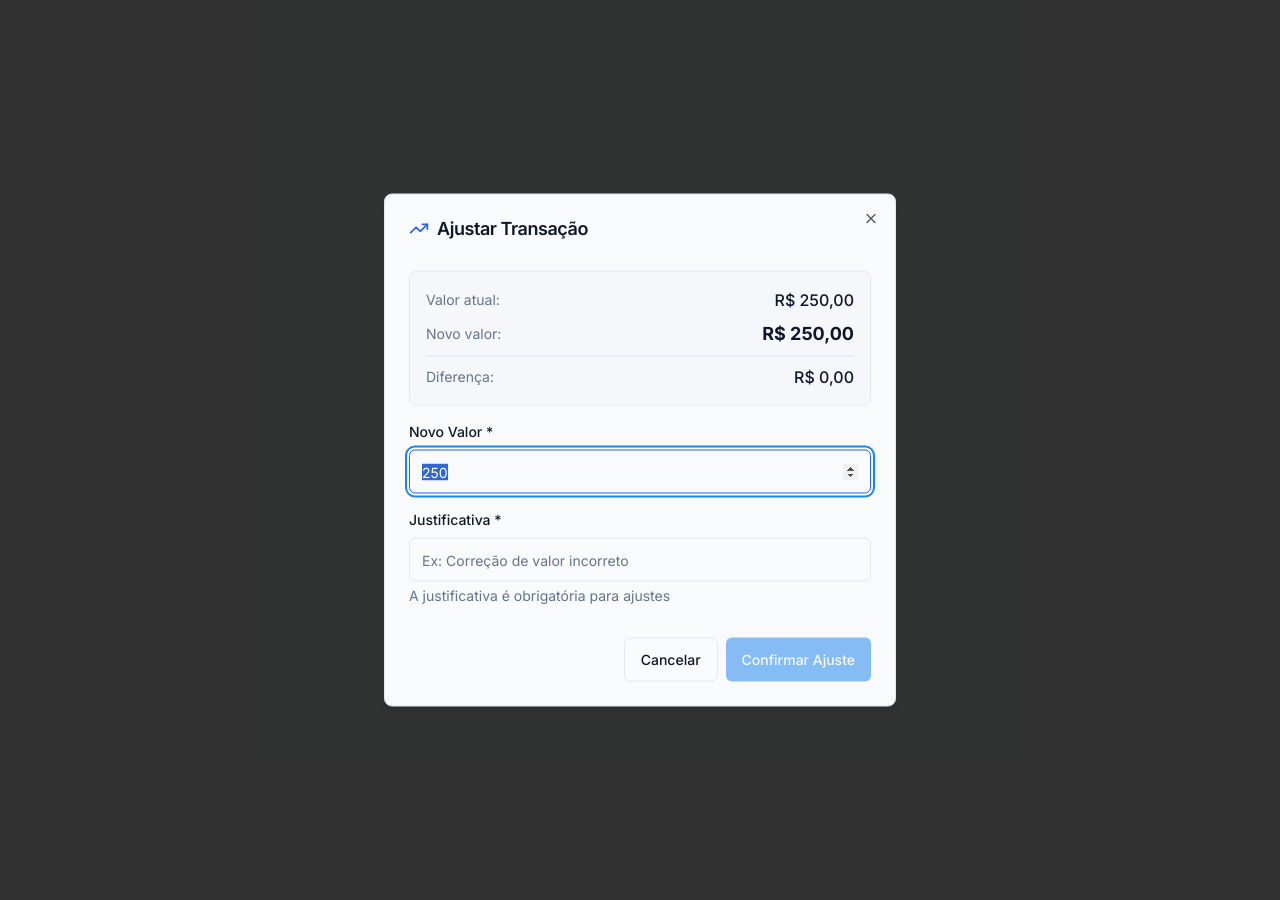
Scenario: AdjustModal › shows loading state while submitting
This screenshot has width=1280, height=900.
Step 1. Replace the text in the number field labelled "Novo Valor *" with "300" → (640, 472), box x1=409 y1=450 x2=871 y2=494
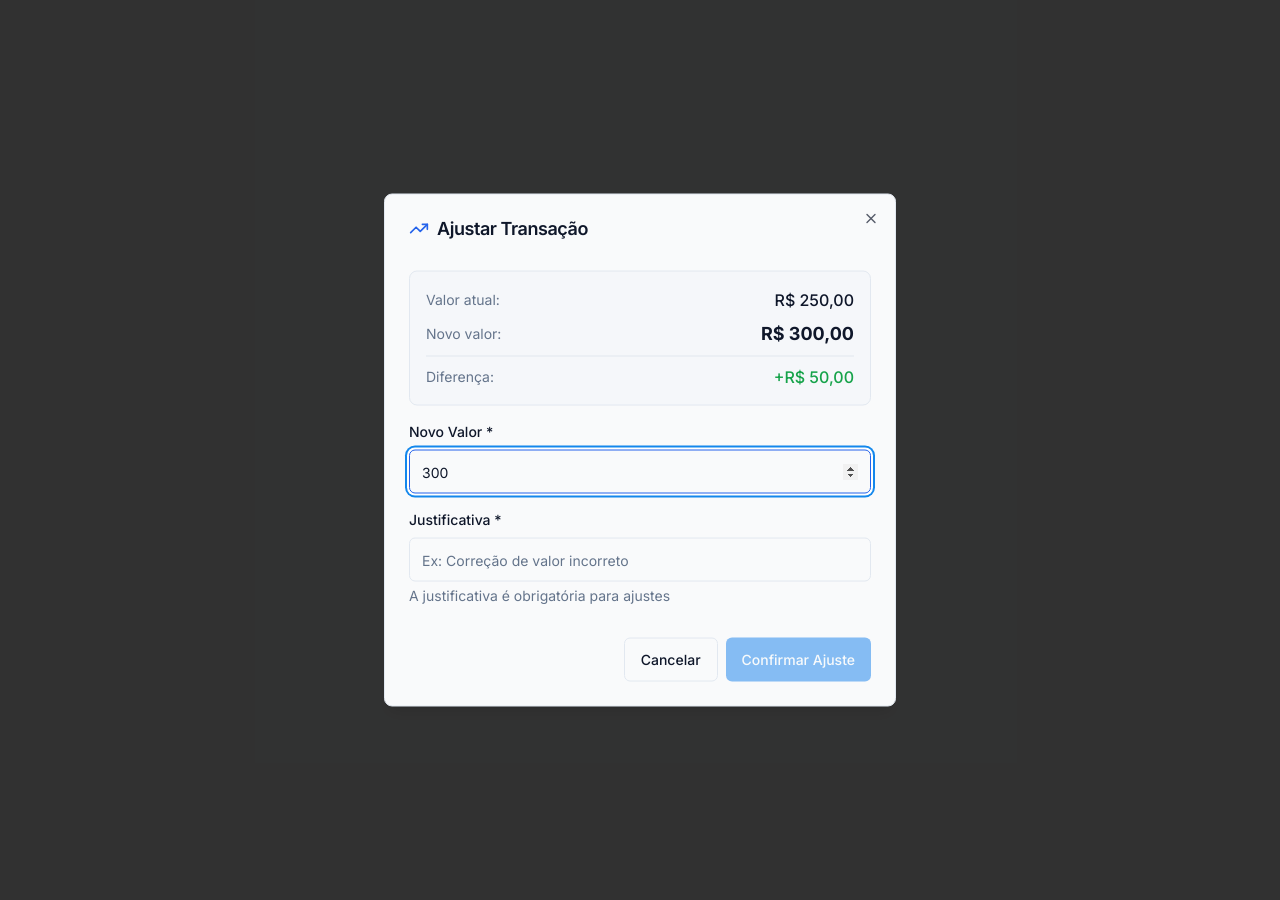
Step 2. Type "Justificativa válida" into the field labelled "Justificativa *" → (640, 560), box x1=409 y1=538 x2=871 y2=582
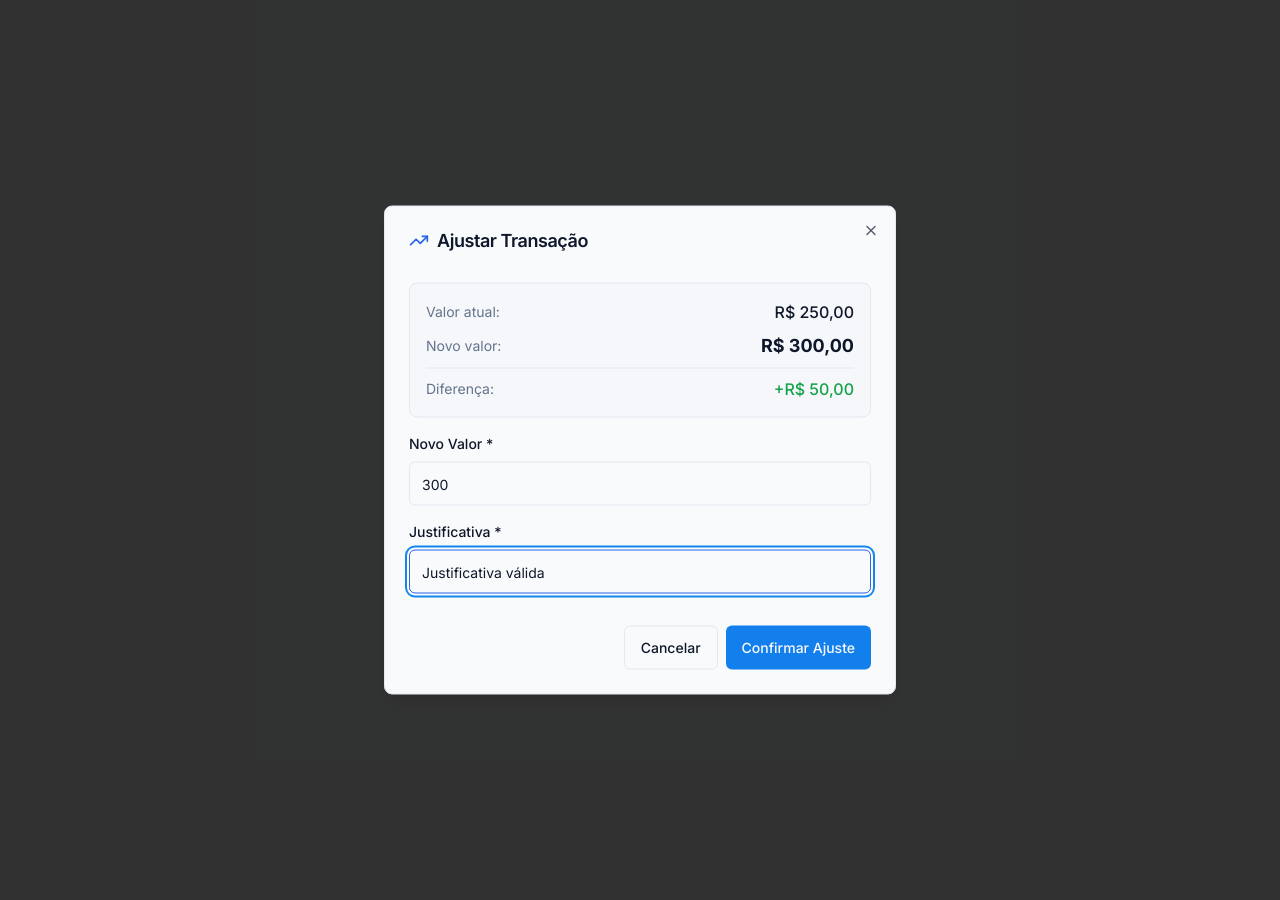
Step 3. Click the button "Confirmar Ajuste" → (798, 648), box x1=726 y1=626 x2=871 y2=670
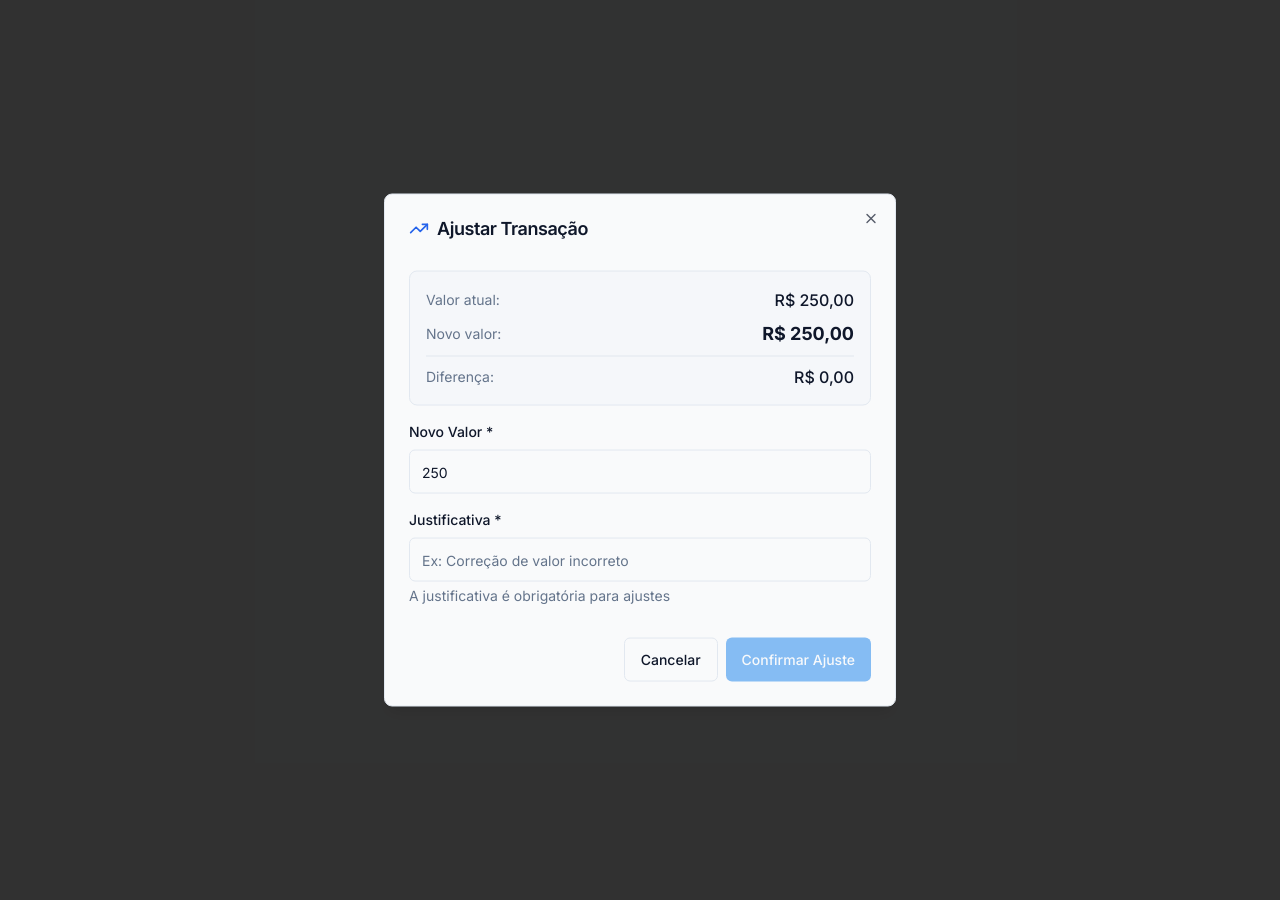
Expected: the button "Confirmar Ajuste" is disabled, x1=726 y1=638 x2=871 y2=682
